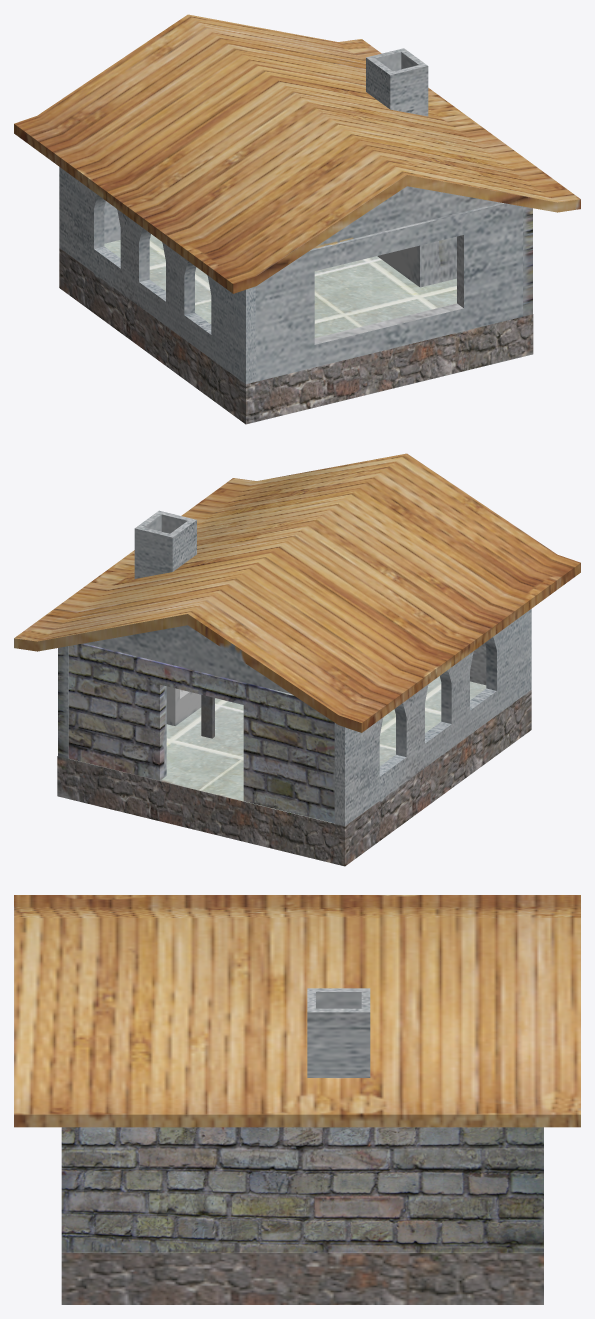
3 renders of one model, top to bottom at view 1: azimuth 30°, elevation 25°; view 2: azimuth 150°, elevation 25°; view 3: azimuth 270°, elevation 25°, orthographic. The views are drawn at different scales.
Visible parts, largest first — view 1: house1; view 2: house1; view 3: house1.
Boxes of the visible parts, x1=… form: house1: x1=14, y1=14, x2=580, y2=424; house1: x1=14, y1=453, x2=580, y2=866; house1: x1=14, y1=895, x2=580, y2=1304.
Bounding box in the file's own units: 1071 × 672 × 1169.
